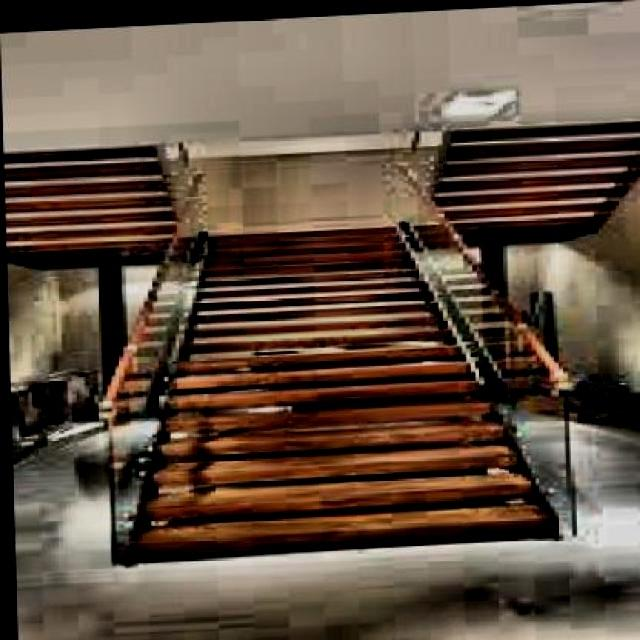stair: (130, 213, 518, 570)
